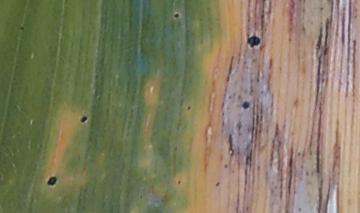tarspot: (247, 34, 261, 49), (46, 175, 57, 186), (240, 99, 251, 110), (79, 114, 88, 124), (172, 11, 180, 20), (18, 24, 26, 31), (221, 162, 229, 169), (175, 178, 182, 185), (214, 180, 221, 187), (185, 103, 191, 111), (296, 149, 301, 158)
